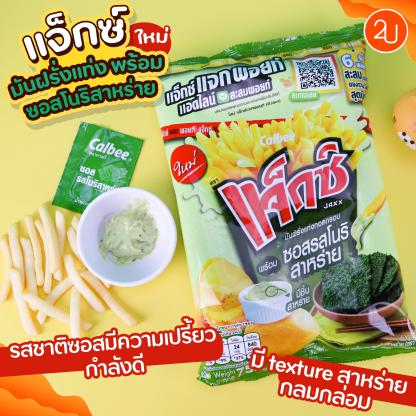potatochip: (145, 23, 416, 386)
